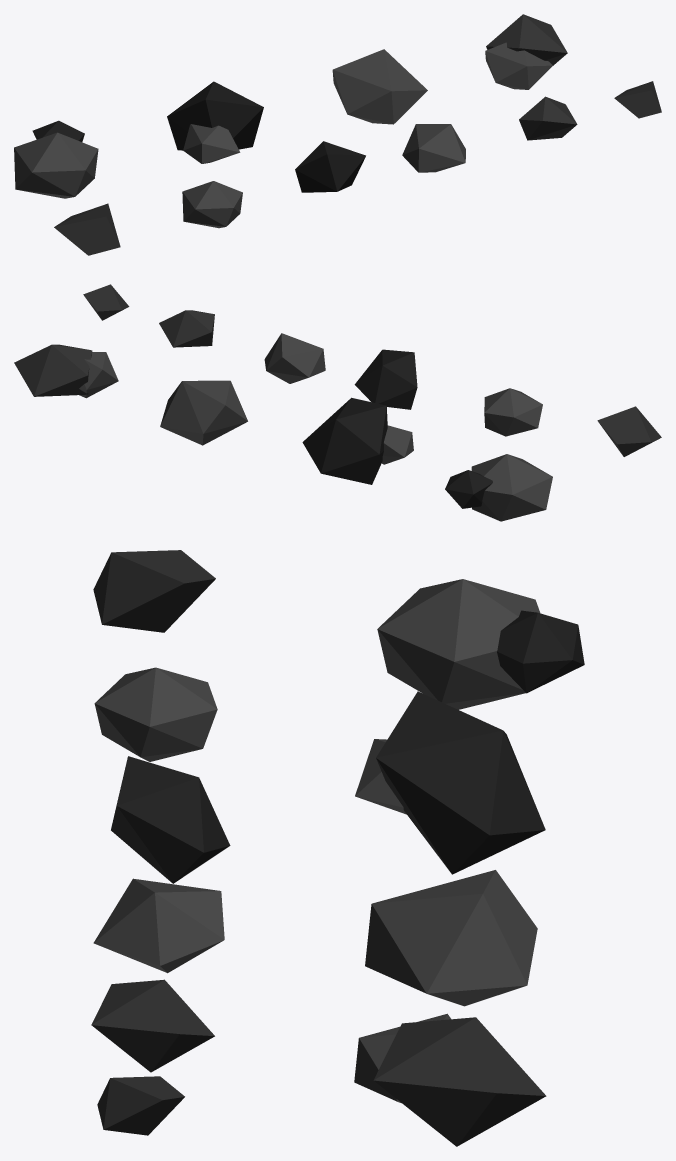
Rendered from small-rocks.fbx.
The picture shows the model from 3 angles, top to bottom: view 1: azimuth 30°, elevation 25°; view 2: azimuth 150°, elevation 25°; view 3: azimuth 270°, elevation 25°; orthographic projection. The views are drawn at different scales.
Visible parts, largest first — view 1: rock_sm2_03, rock_sm2_04, rock_sm2_05, rock_sm2_01, rock_sm_04, rock_sm_03, rock_sm_05, rock_sm2_02, rock_sm_01, rock_sm_02; view 2: rock_sm2_03, rock_sm2_04, rock_sm2_01, rock_sm2_05, rock_sm_04, rock_sm_05, rock_sm_03, rock_sm2_02, rock_sm_01, rock_sm_02; view 3: rock_sm2_03, rock_sm2_04, rock_sm2_05, rock_sm2_01, rock_sm_04, rock_sm_05, rock_sm_03, rock_sm2_02, rock_sm_01, rock_sm_02.
Part boxes in pixels (x1=…): rock_sm2_03: x1=167, y1=81, x2=263, y2=163; rock_sm2_04: x1=14, y1=120, x2=98, y2=198; rock_sm2_05: x1=332, y1=49, x2=427, y2=124; rock_sm2_01: x1=485, y1=14, x2=567, y2=89; rock_sm_04: x1=295, y1=141, x2=365, y2=192; rock_sm_03: x1=402, y1=124, x2=465, y2=172; rock_sm_05: x1=182, y1=181, x2=242, y2=228; rock_sm2_02: x1=54, y1=203, x2=120, y2=255; rock_sm_01: x1=519, y1=96, x2=577, y2=140; rock_sm_02: x1=614, y1=81, x2=661, y2=118; rock_sm2_03: x1=302, y1=397, x2=413, y2=484; rock_sm2_04: x1=445, y1=454, x2=552, y2=521; rock_sm2_01: x1=14, y1=344, x2=118, y2=398; rock_sm2_05: x1=160, y1=380, x2=247, y2=445; rock_sm_04: x1=354, y1=349, x2=417, y2=409; rock_sm_05: x1=484, y1=388, x2=542, y2=436; rock_sm_03: x1=264, y1=333, x2=325, y2=383; rock_sm2_02: x1=597, y1=406, x2=661, y2=456; rock_sm_01: x1=159, y1=310, x2=214, y2=347; rock_sm_02: x1=83, y1=284, x2=129, y2=320; rock_sm2_03: x1=355, y1=691, x2=545, y2=874; rock_sm2_04: x1=377, y1=579, x2=584, y2=709; rock_sm2_05: x1=365, y1=870, x2=537, y2=1006; rock_sm2_01: x1=354, y1=1013, x2=546, y2=1146; rock_sm_04: x1=111, y1=756, x2=230, y2=883; rock_sm_05: x1=94, y1=667, x2=217, y2=761; rock_sm_03: x1=93, y1=878, x2=224, y2=973; rock_sm2_02: x1=93, y1=550, x2=215, y2=632; rock_sm_01: x1=91, y1=979, x2=214, y2=1072; rock_sm_02: x1=97, y1=1076, x2=184, y2=1135.
Size of the model in its own units: 311 by 38.09 by 116.
